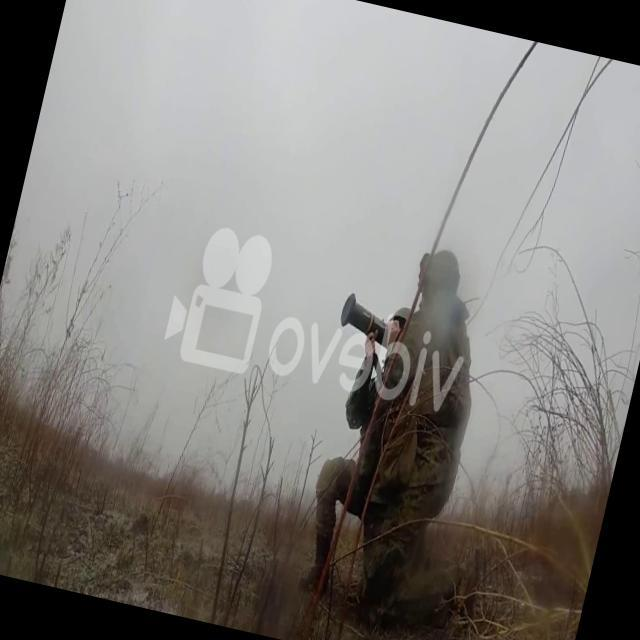rocket: (336, 288, 402, 350)
